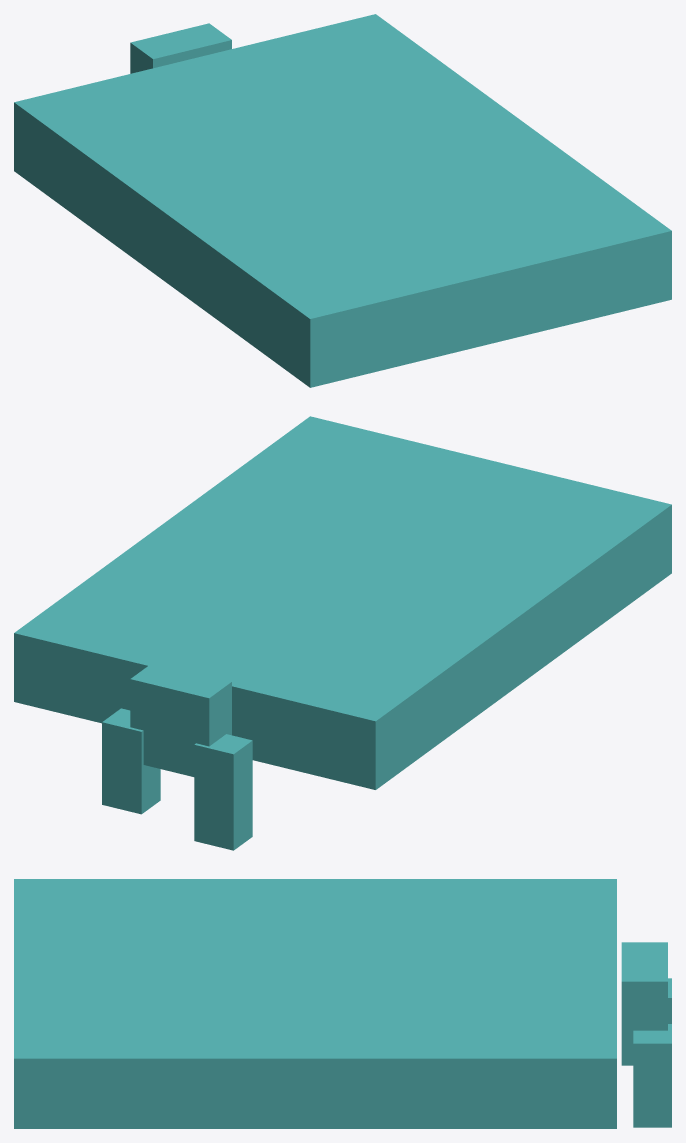
The model's file is faixa_yoga.glb.
3 views of the same model, one above another, from view 1: azimuth 30°, elevation 25°; view 2: azimuth 150°, elevation 25°; view 3: azimuth 270°, elevation 25° (orthographic).
Parts seen in each view (by area): view 1: faixa_yoga; view 2: faixa_yoga; view 3: faixa_yoga.
Boxes of the visible parts, x1,y1,x2,y2 form: faixa_yoga: [14, 14, 671, 387]; faixa_yoga: [14, 416, 671, 850]; faixa_yoga: [14, 879, 671, 1128].
Size of the model in its own units: 0.55 by 0.21 by 0.851.
